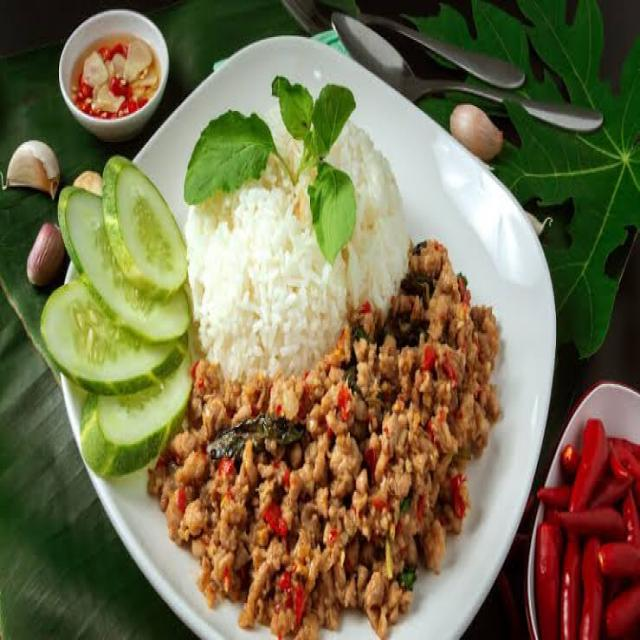basil chicken rice: (176, 100, 490, 594)
carb: (181, 91, 392, 340)
meat: (186, 363, 497, 626)
vegetable: (48, 219, 156, 462)
